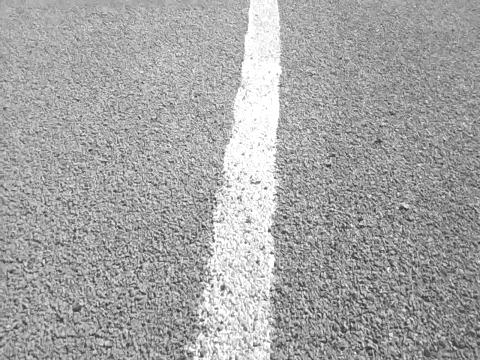Lines: (194, 0, 283, 360)
